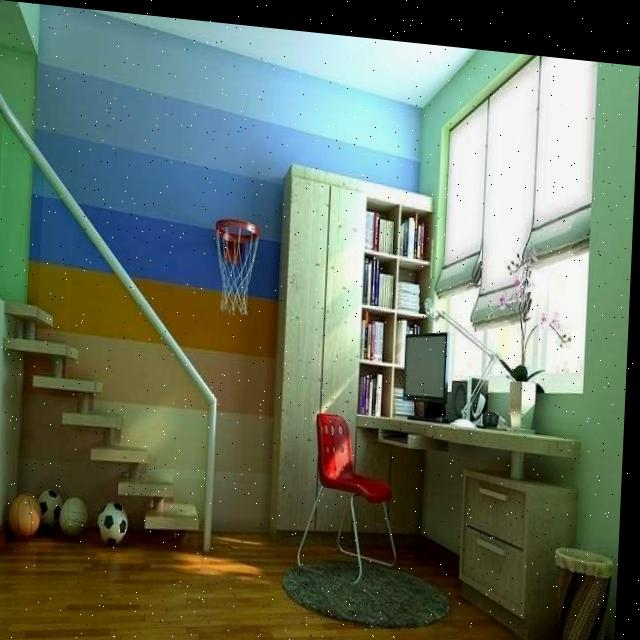basketball: (7, 491, 42, 541)
hoop: (212, 217, 261, 319)
